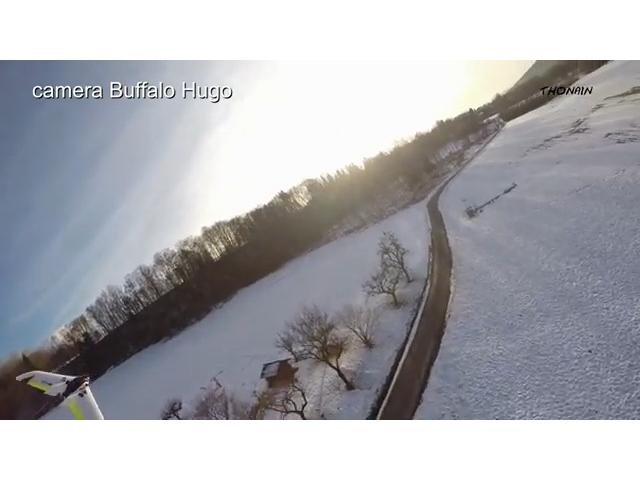Anti-Drone: (14, 356, 122, 419)
